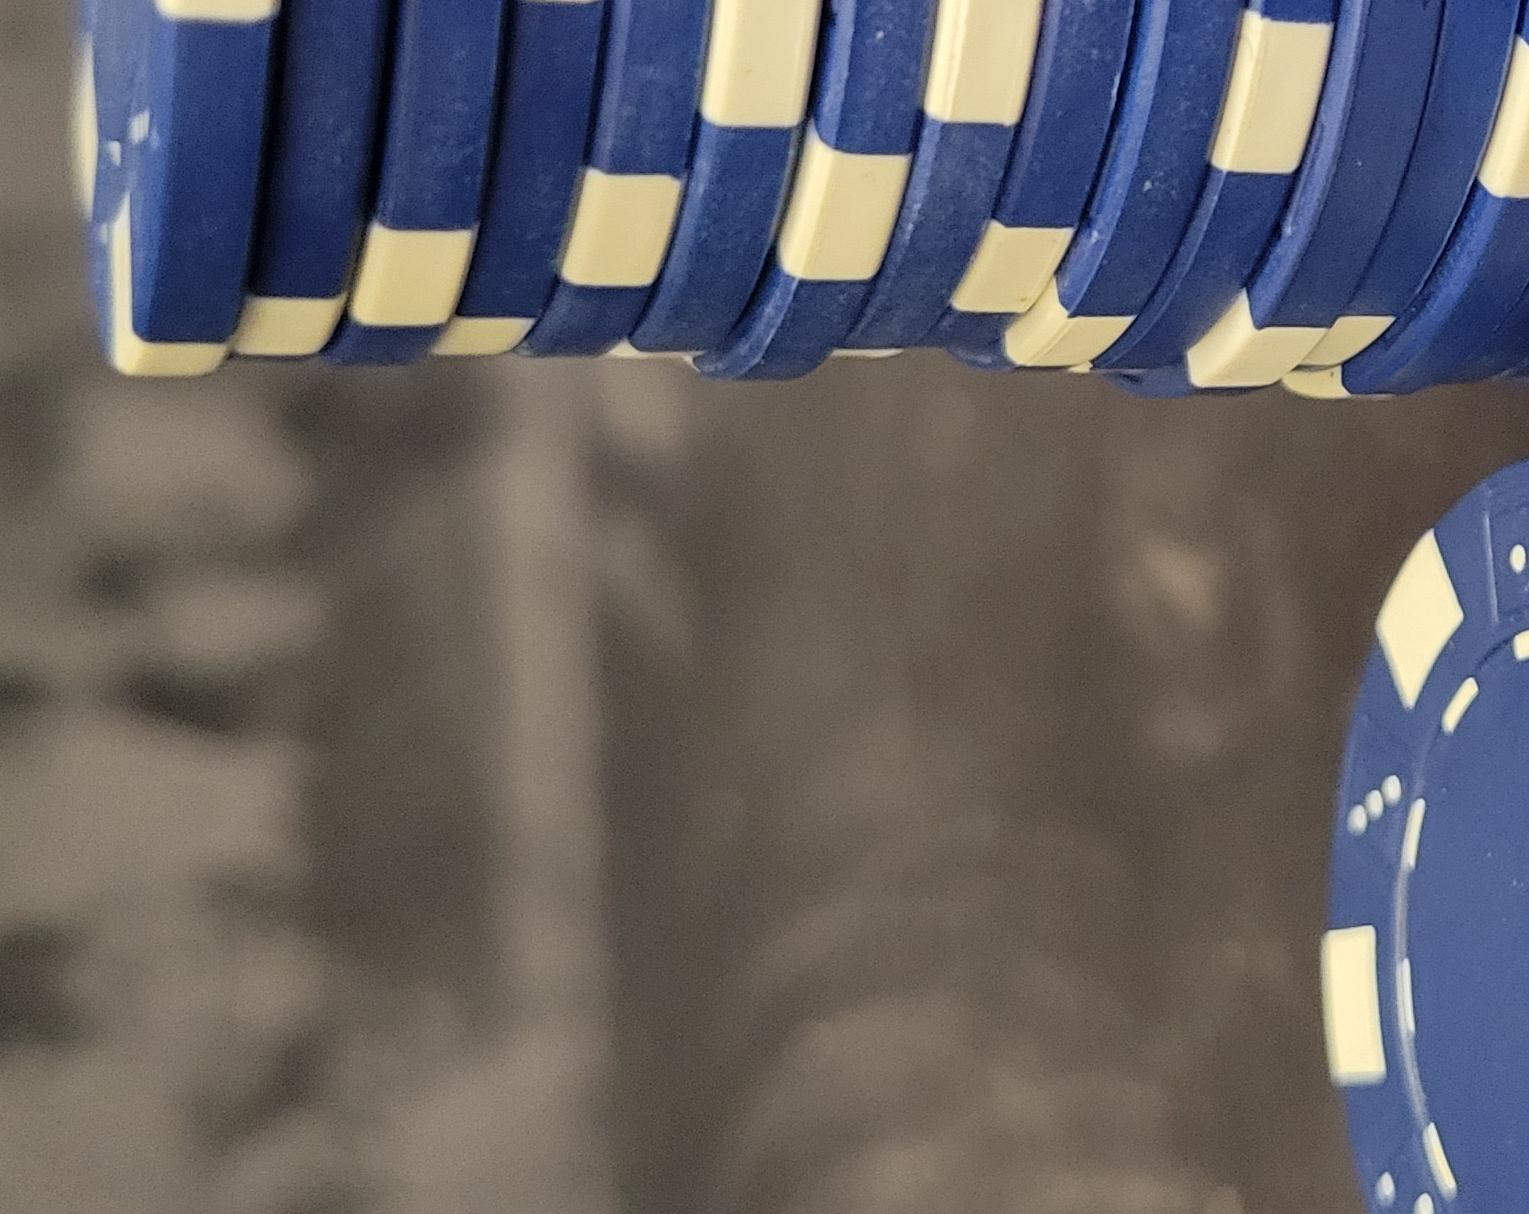Chip: (1, 391, 1033, 1214)
